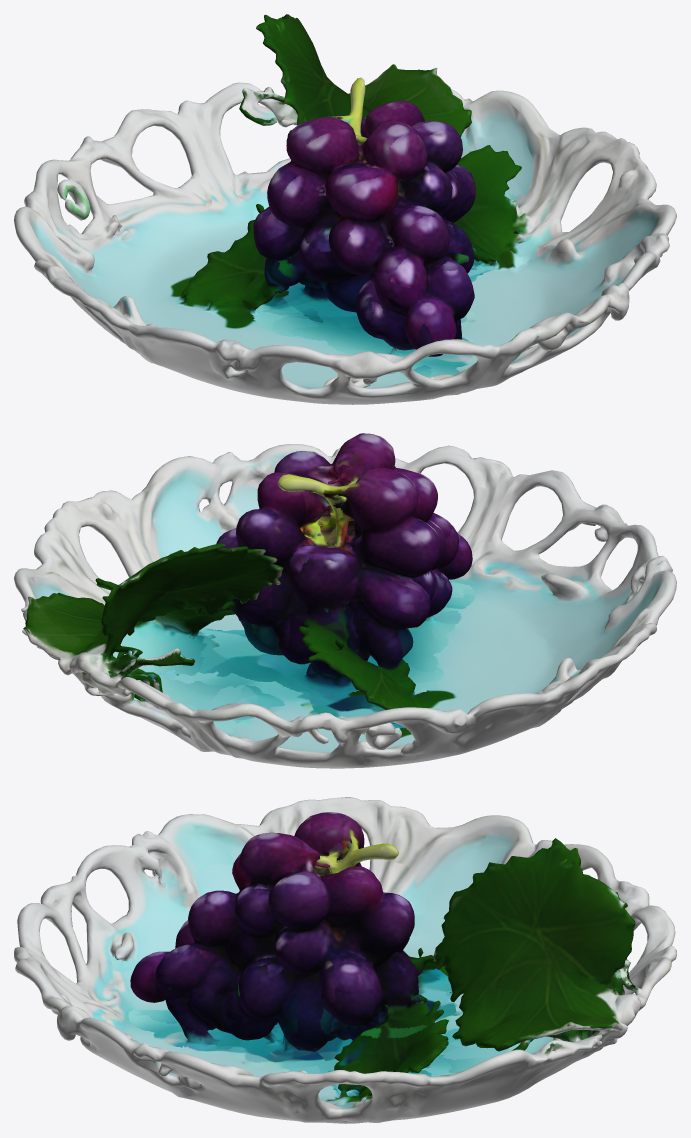
Rendered from goodcase0304_241.glb.
3 renders of one model, top to bottom at view 1: azimuth 30°, elevation 25°; view 2: azimuth 150°, elevation 25°; view 3: azimuth 270°, elevation 25°, orthographic.
Parts seen in each view (by area): view 1: object.001; view 2: object.001; view 3: object.001.
Boxes of the visible parts, bbox=[...] form: object.001: bbox=[14, 14, 676, 404]; object.001: bbox=[14, 433, 676, 768]; object.001: bbox=[14, 797, 676, 1123].
Bounding box in the file's own units: 1.1 × 0.3874 × 1.09.
1 material, 1 textured.
